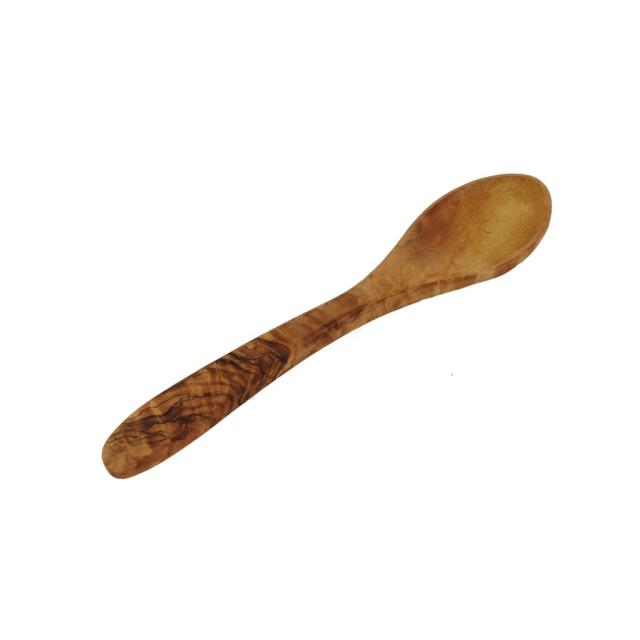spoon: (92, 161, 572, 485)
